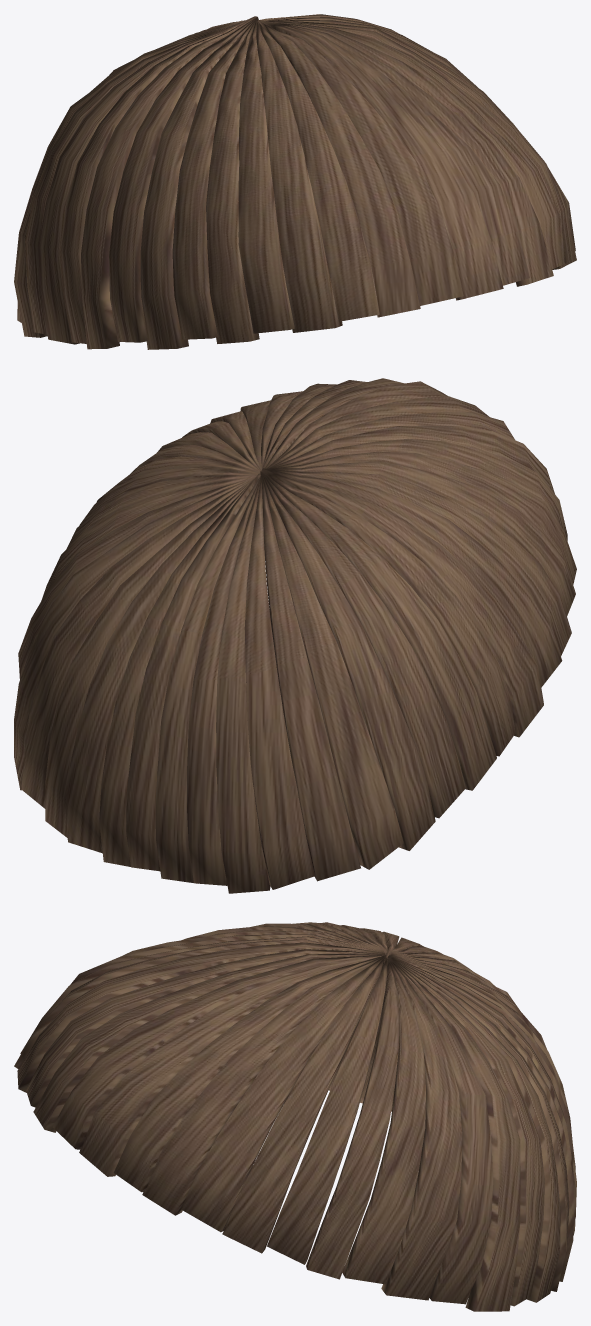
File: Bowl_Cut.glb
3 renders of one model, top to bottom at view 1: azimuth 30°, elevation 25°; view 2: azimuth 150°, elevation 25°; view 3: azimuth 270°, elevation 25°, orthographic. The views are drawn at different scales.
Parts seen in each view (by area): view 1: Bowl Cut; view 2: Bowl Cut; view 3: Bowl Cut.
Boxes of the visible parts, x1,y1,x2,y2 form: Bowl Cut: [14, 14, 576, 349]; Bowl Cut: [14, 378, 576, 893]; Bowl Cut: [14, 922, 576, 1311].
Size of the model in its own units: 0.8869 by 0.6725 by 1.09.
1 material, 1 textured.
